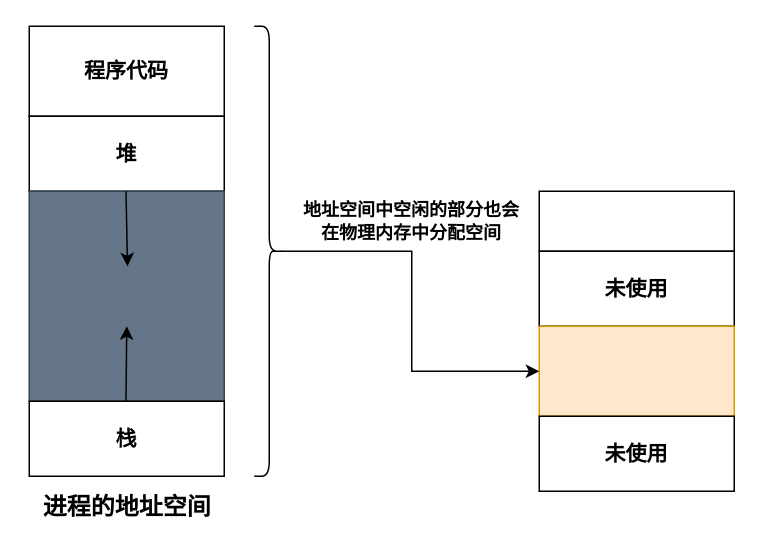
Some shapes in this 761 by 548 pixel diagram are drawn without their labels. The centre of each missing label's shape, as x and y in pixels:
分配给进程的: the point at 636,370
操作系统: the point at 636,220
空闲: the point at 126,295
